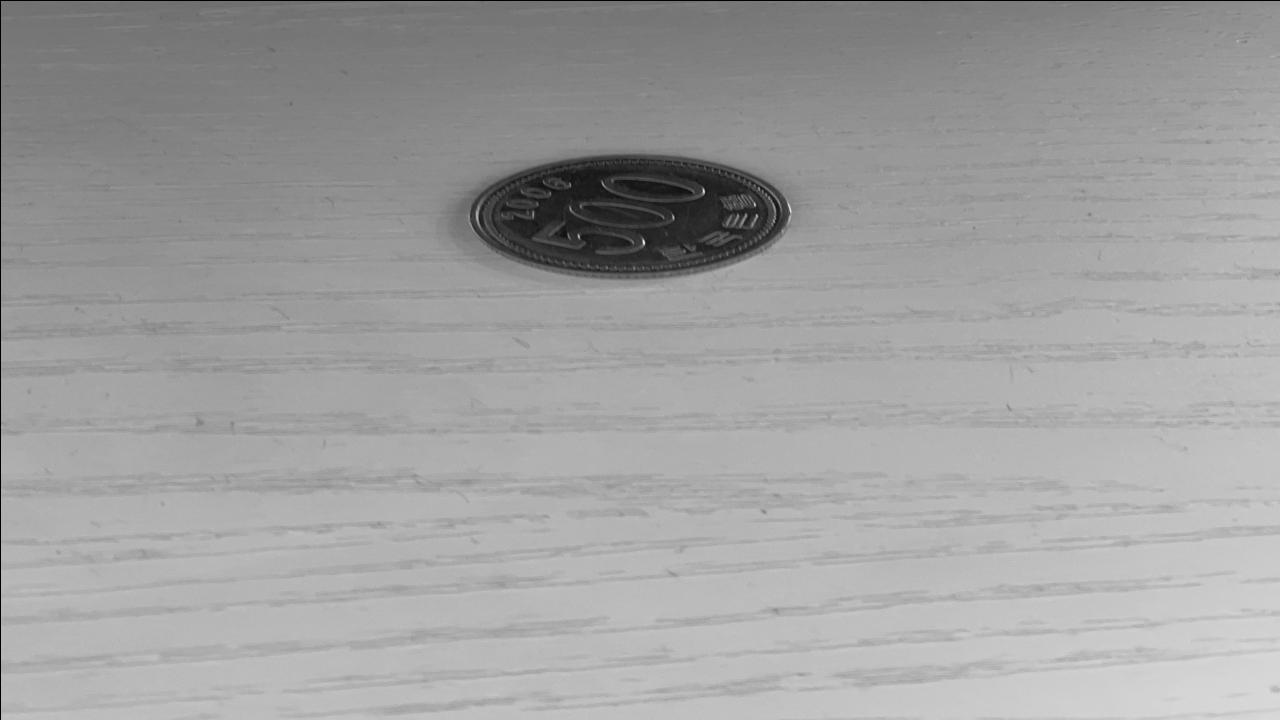coin: (468, 157, 790, 275)
